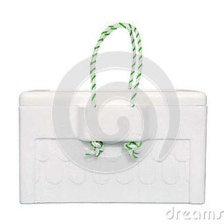foam_box: (10, 18, 211, 208)
